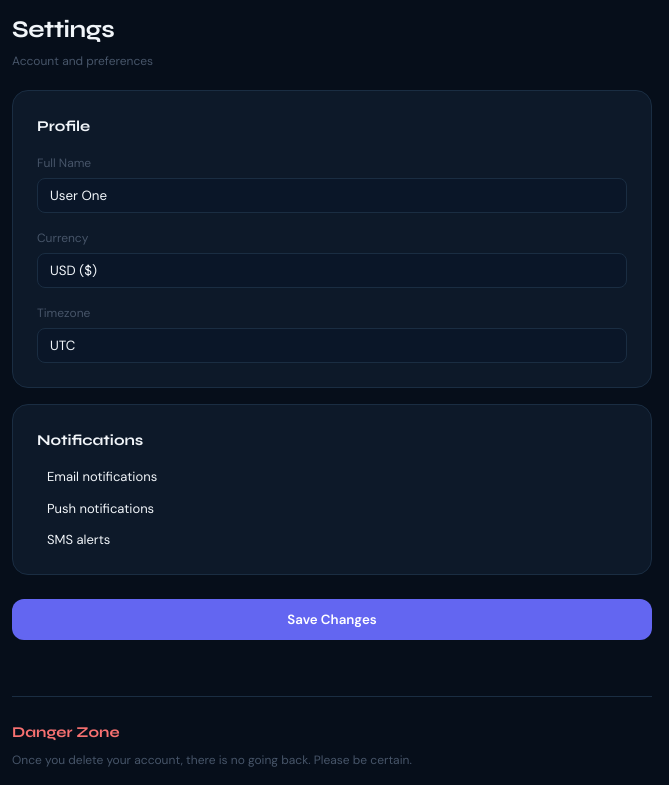
it: SettingsPage Component › updates profile when form is submitted
The width and height of the screenshot is (669, 785).
Replace the text in the field labelled "Full Name" with "Updated Name". click: (332, 195)
box: [37,178,627,212]
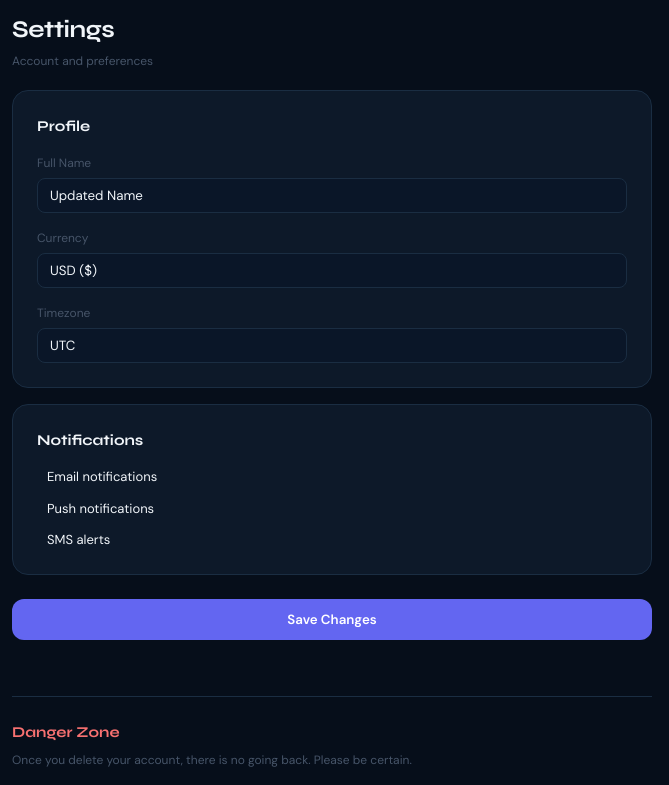
Click the button "Save Changes". click: click(332, 619)
box: [12,598,652,640]
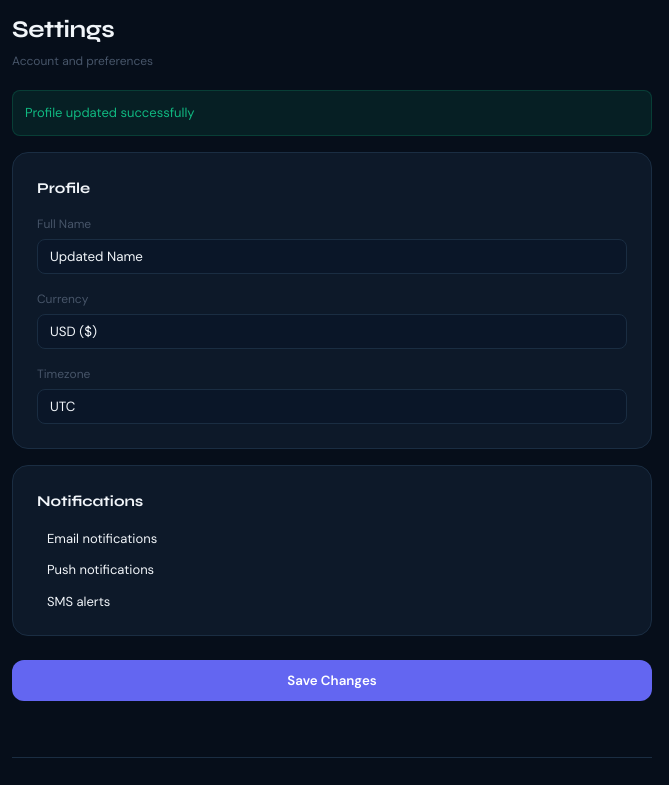
Now the text "Profile updated successfully" is shown, box [12,90,652,136]
